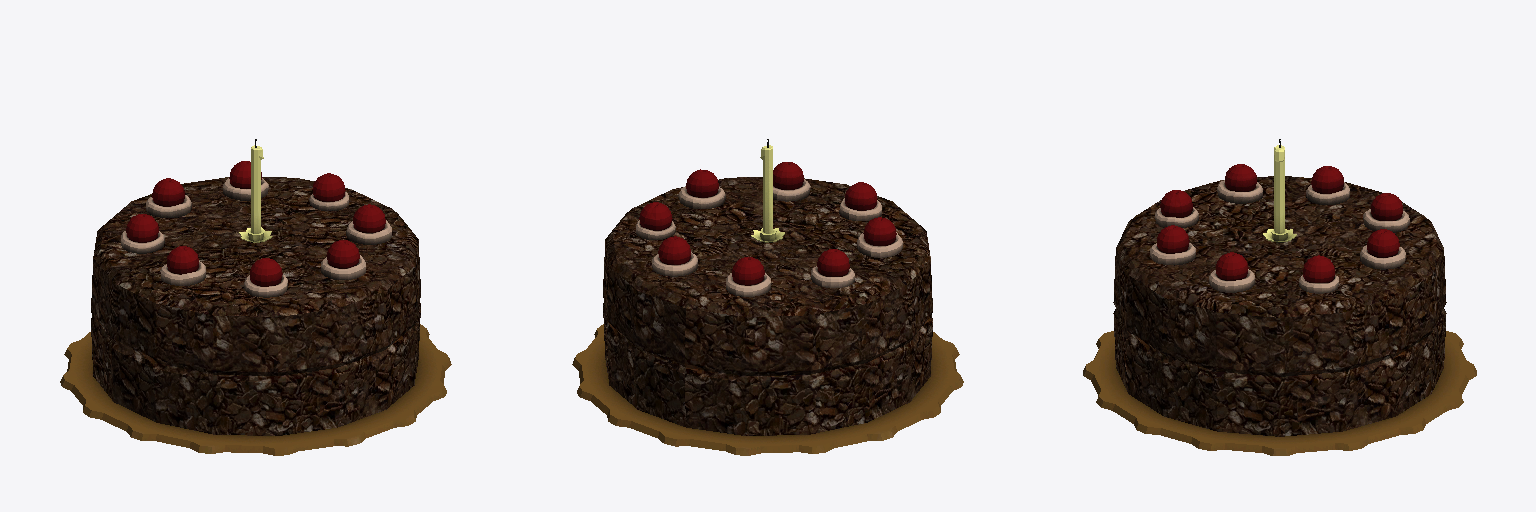
3 renders of one model, left to right at view 1: azimuth 30°, elevation 25°; view 2: azimuth 150°, elevation 25°; view 3: azimuth 270°, elevation 25°, orthographic.
Visible parts, largest first — view 1: Object_4; view 2: Object_4; view 3: Object_4.
Boxes of the visible parts, x1,y1,x2,y2 form: Object_4: [60, 139, 451, 455]; Object_4: [572, 139, 963, 455]; Object_4: [1083, 139, 1476, 455].
Size of the model in its own units: 36.87 by 24.25 by 36.87.
Materials: 1 (1 with a texture image).